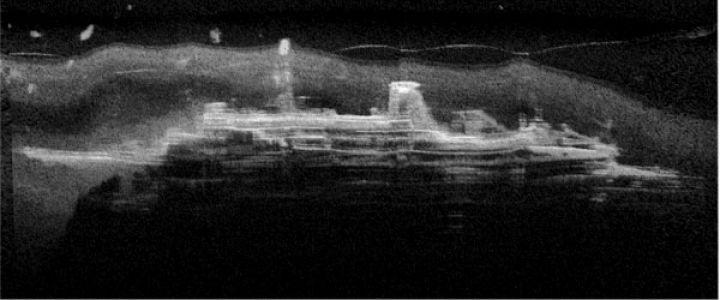ship: (13, 67, 687, 211)
